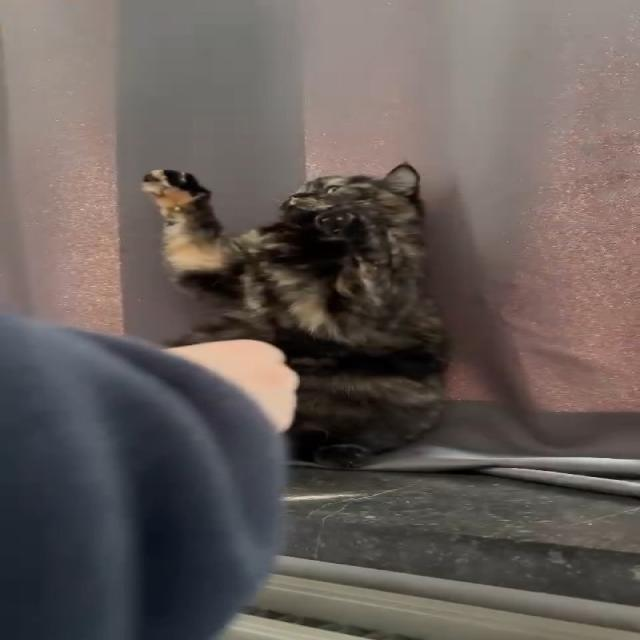authorized: (139, 160, 452, 468)
